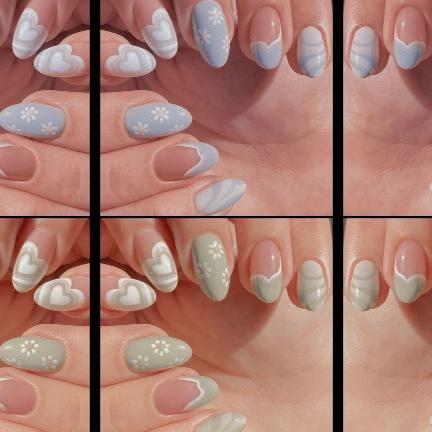Nail: (132, 228, 177, 293), (11, 228, 56, 293), (190, 233, 229, 302), (132, 0, 177, 59), (11, 0, 56, 59), (190, 0, 229, 68), (152, 375, 218, 415), (152, 142, 218, 181), (123, 336, 192, 372), (123, 103, 191, 139), (0, 103, 65, 139), (0, 336, 65, 372), (249, 5, 282, 69), (249, 239, 282, 303), (393, 5, 425, 69), (393, 239, 425, 303), (99, 276, 156, 311), (32, 276, 89, 311), (193, 178, 245, 215), (99, 43, 155, 77), (33, 43, 89, 77), (295, 26, 325, 78), (349, 26, 379, 78), (349, 260, 379, 311), (296, 260, 325, 311), (0, 142, 36, 181), (0, 376, 36, 415), (194, 411, 245, 432), (429, 181, 432, 196), (429, 414, 432, 429)
